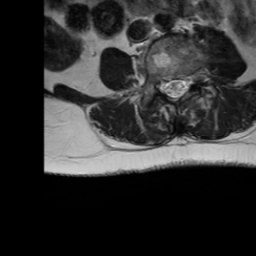CCS_normal: (170, 68, 179, 110)
LFS_normal: (189, 62, 200, 91)
LLS_normal: (179, 68, 189, 100)
RFS_normal: (151, 66, 161, 94)
RLS_normal: (161, 68, 170, 102)
